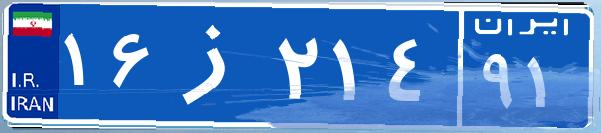1: (330, 28, 385, 110), (57, 26, 110, 107), (525, 38, 570, 115)
2: (273, 28, 330, 110)
4: (385, 28, 445, 110)
6: (110, 28, 158, 105)
9: (475, 38, 525, 113)
ز: (158, 15, 273, 115)
